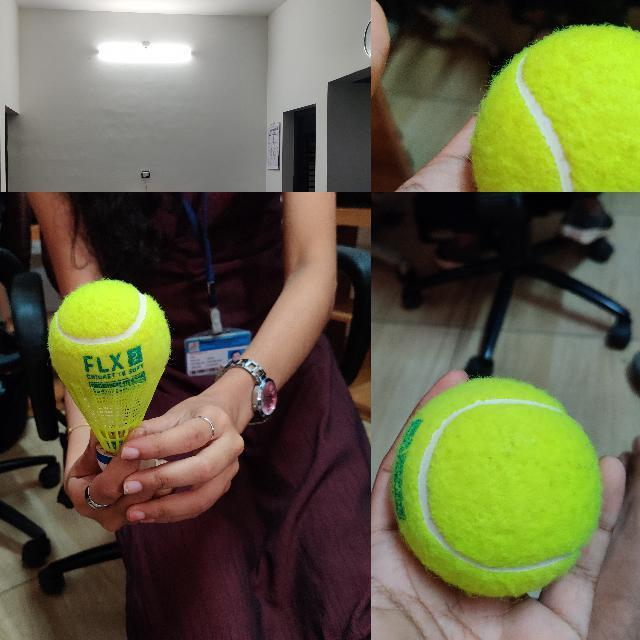tennis-ball: (390, 377, 602, 597), (471, 25, 639, 191), (49, 280, 170, 368)
